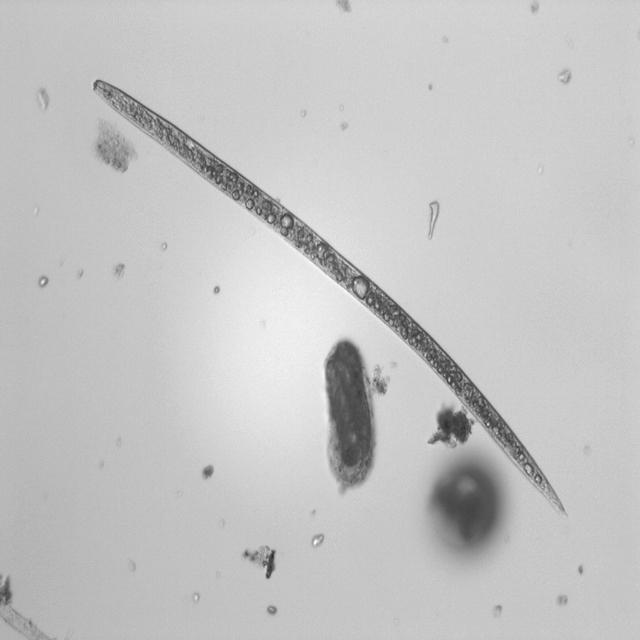Radopholus: (83, 76, 577, 528)
